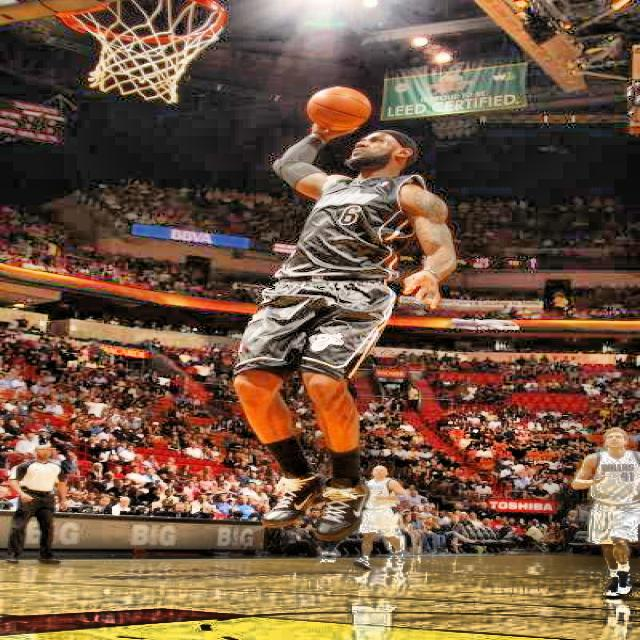board: (306, 86, 374, 133)
rim: (70, 0, 227, 101)
